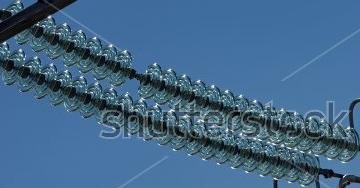gap: (109, 49, 161, 101)
